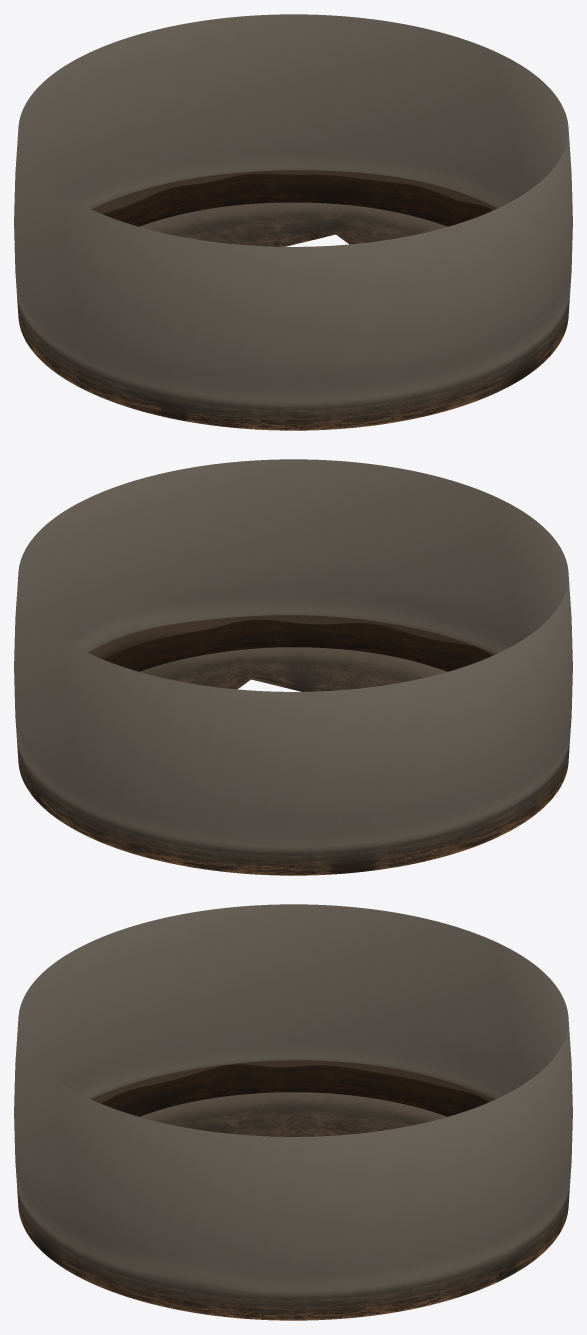
The model's file is gusher-county-panorama.glb.
The picture shows the model from 3 angles, top to bottom: view 1: azimuth 30°, elevation 25°; view 2: azimuth 150°, elevation 25°; view 3: azimuth 270°, elevation 25°; orthographic projection.
Visible parts, largest first — view 1: GusherCountyPanorama; view 2: GusherCountyPanorama; view 3: GusherCountyPanorama.
Part boxes in pixels (x1=…): GusherCountyPanorama: x1=14, y1=14, x2=572, y2=430; GusherCountyPanorama: x1=14, y1=459, x2=572, y2=875; GusherCountyPanorama: x1=14, y1=904, x2=572, y2=1320.
Size of the model in its own units: 386 by 140 by 386.
1 material, 1 textured.
